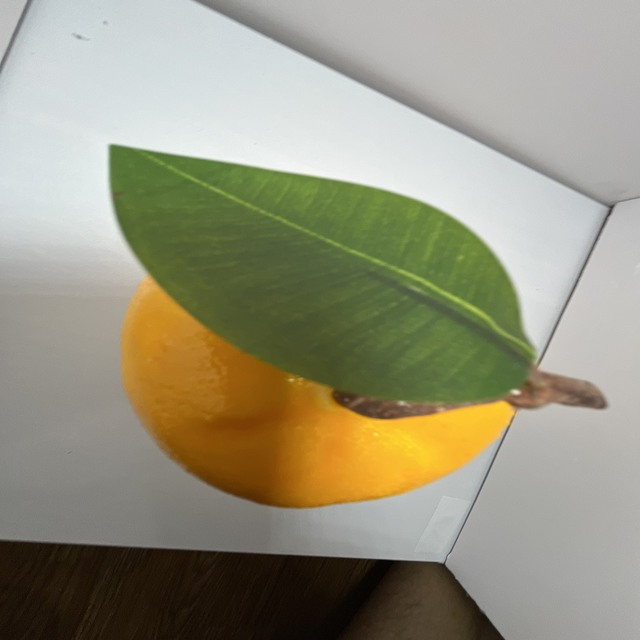Cam vang: (114, 187, 533, 518)
